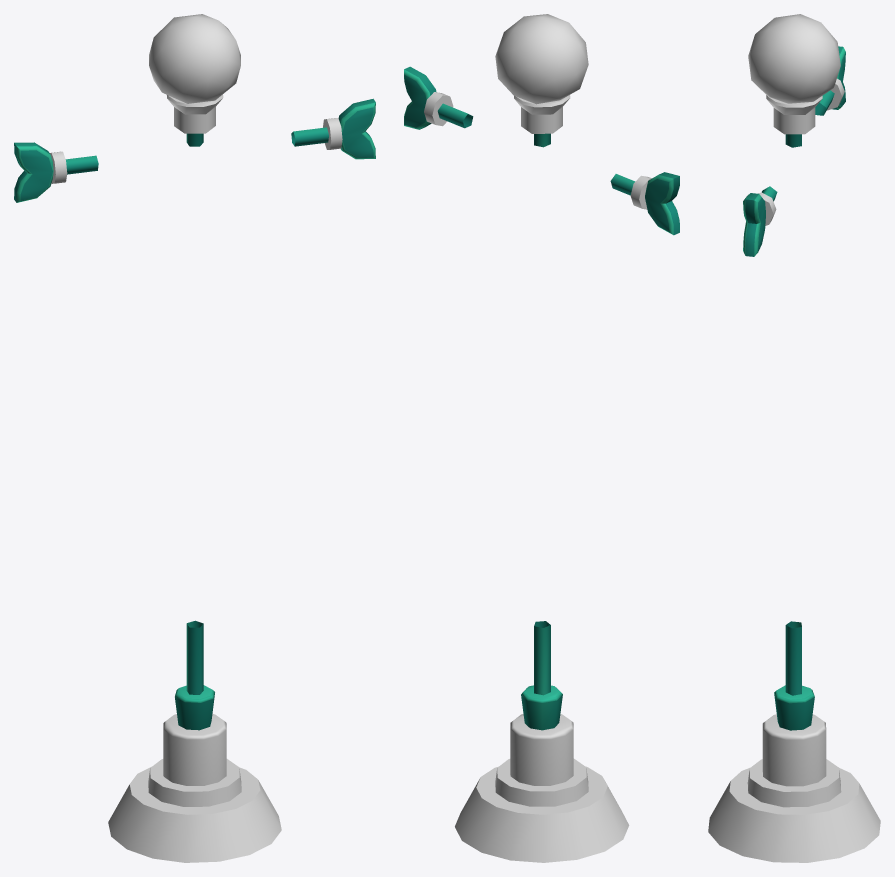
The model's file is DisneyStorePost.fbx.
The picture shows the model from 3 angles, left to right: view 1: azimuth 30°, elevation 25°; view 2: azimuth 150°, elevation 25°; view 3: azimuth 270°, elevation 25°; orthographic projection.
Visible parts, largest first — view 1: DisneyStorePost; view 2: DisneyStorePost; view 3: DisneyStorePost.
Part boxes in pixels (x1=…): DisneyStorePost: x1=14, y1=14, x2=375, y2=862; DisneyStorePost: x1=404, y1=14, x2=679, y2=862; DisneyStorePost: x1=708, y1=14, x2=880, y2=862.
Size of the model in its own units: 155 by 379 by 73.28.
